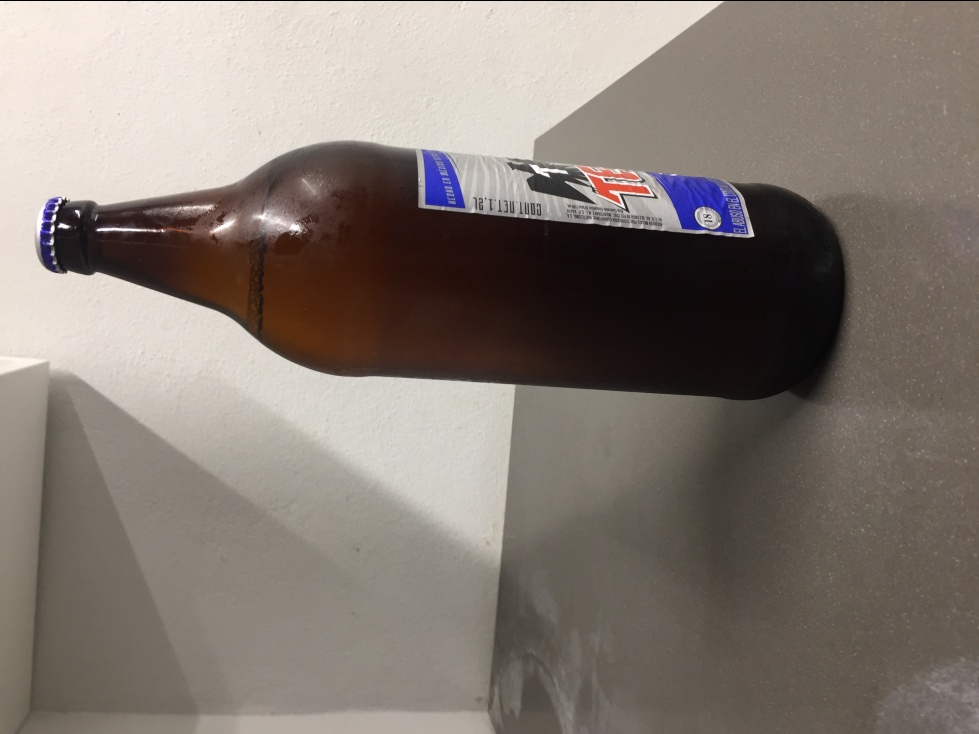tecateC: (39, 128, 852, 403)
